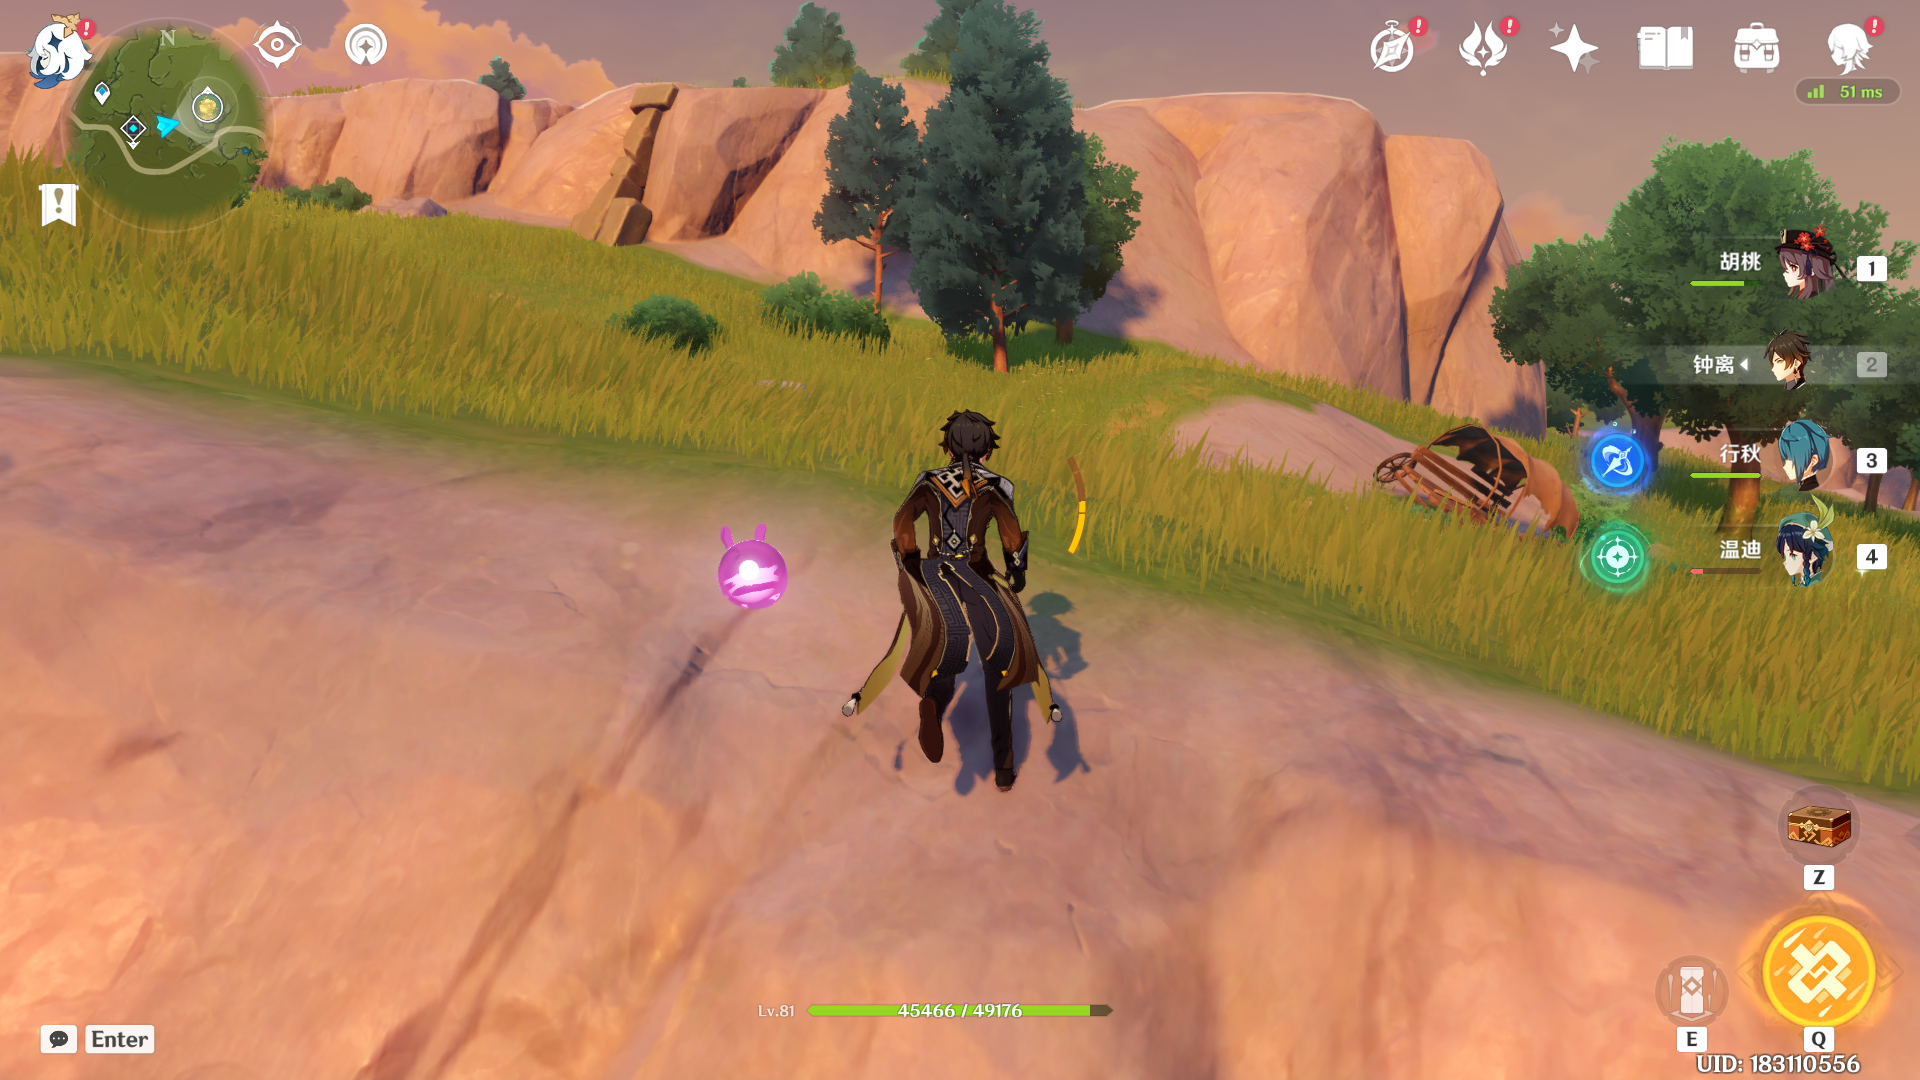character: (851, 398, 1126, 812)
